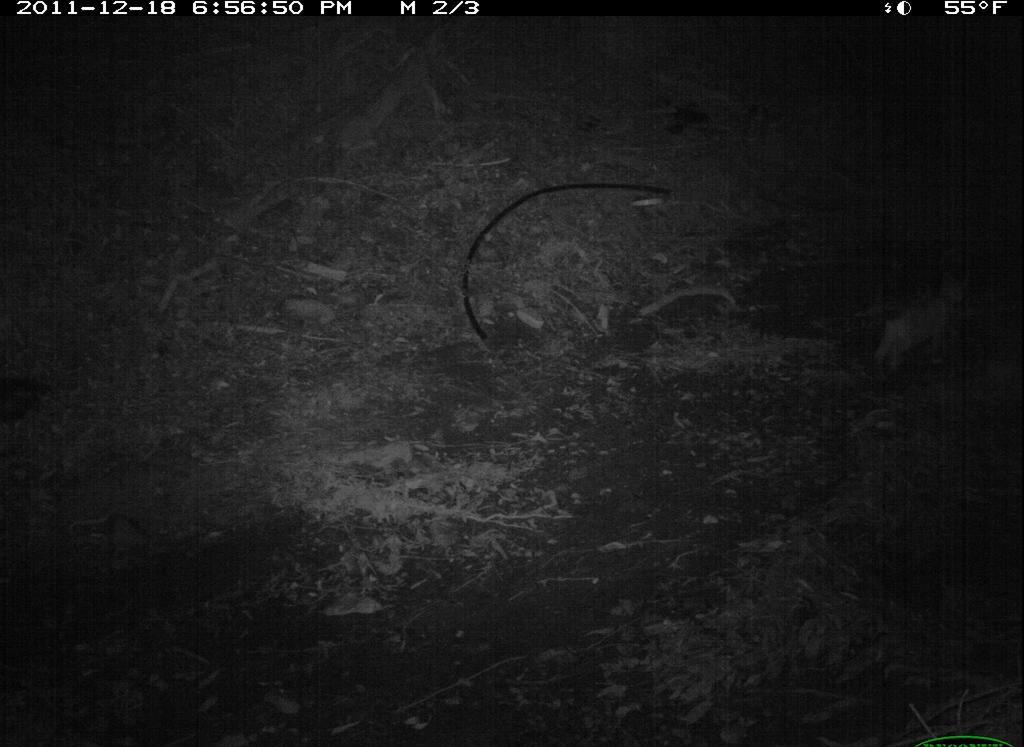cat: (870, 272, 969, 383)
